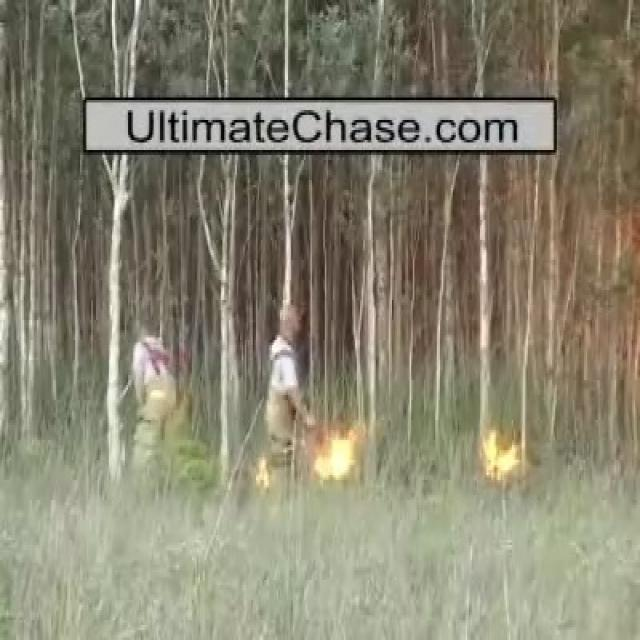fire: (481, 436, 520, 481), (315, 439, 353, 481)
